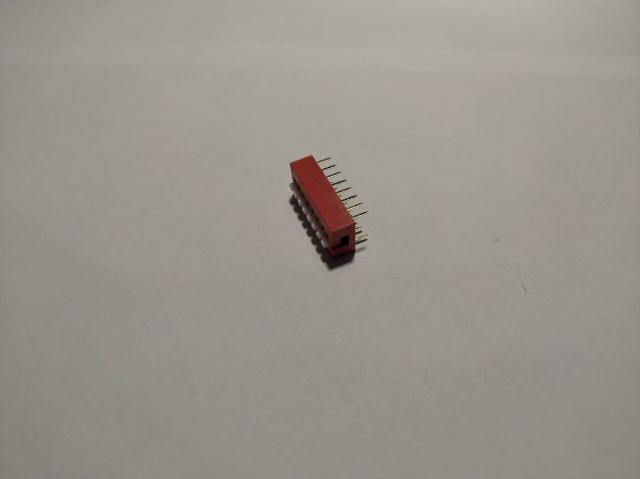dip_switch: (290, 154, 368, 258)
